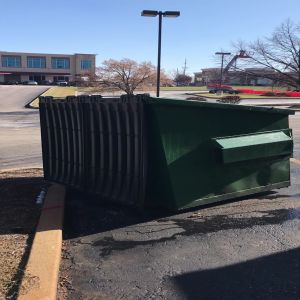Dumpster: (35, 92, 297, 214)
